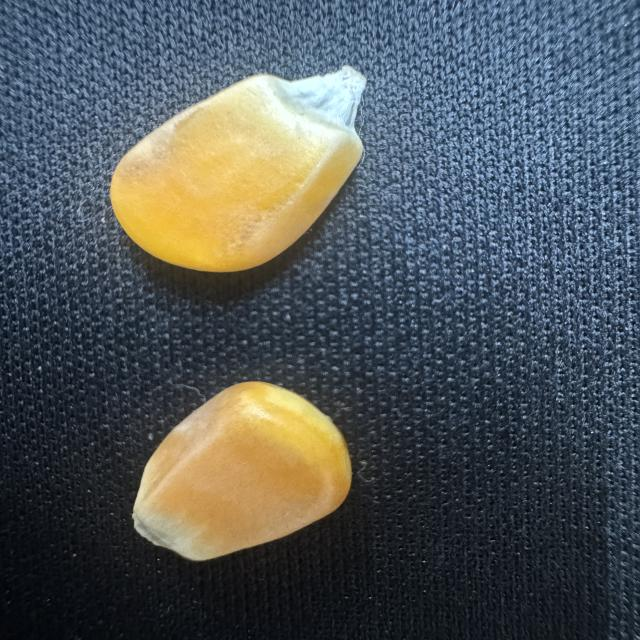Good-Seed: (104, 64, 373, 276), (128, 377, 356, 566)
